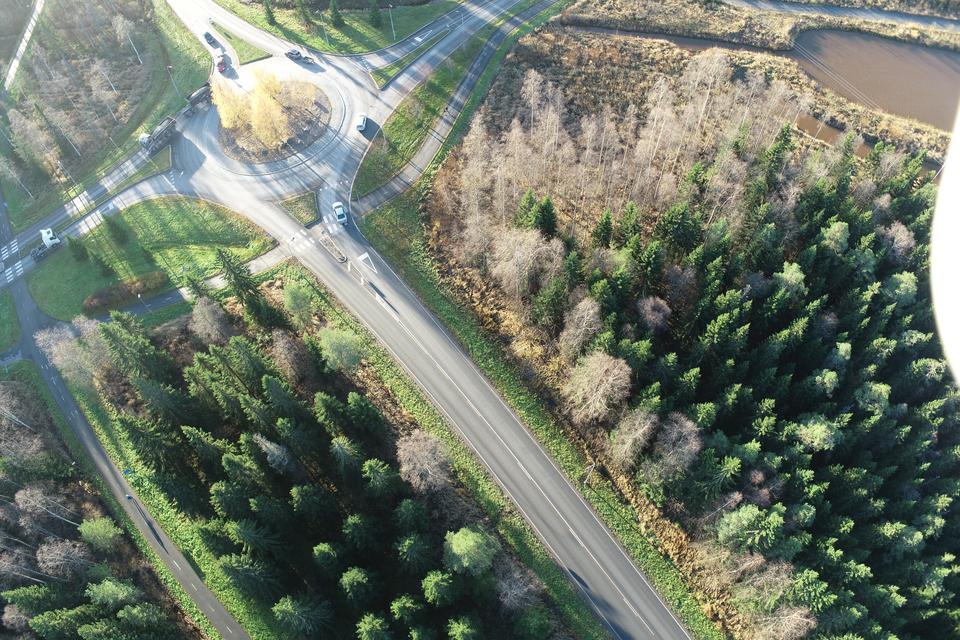intersection: (237, 205, 412, 288)
roundabout: (130, 35, 409, 196)
